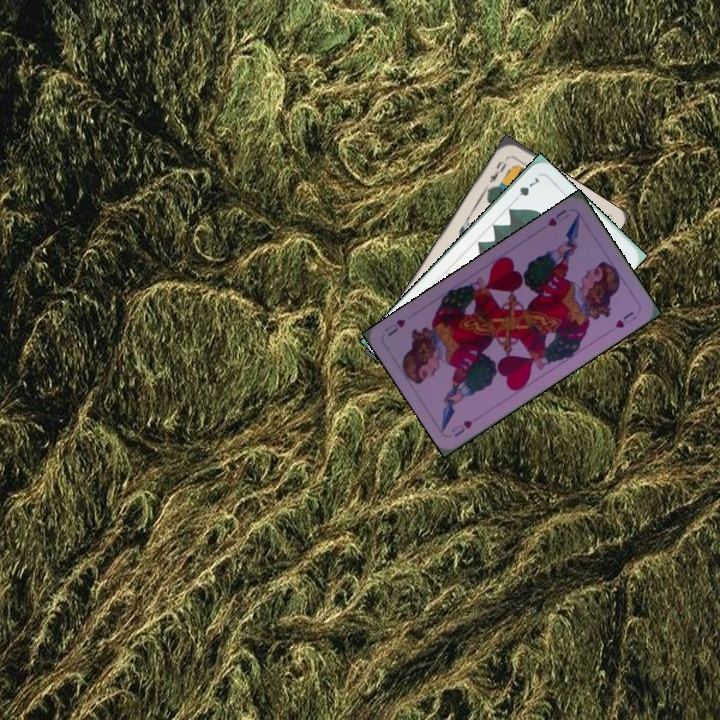EO: (485, 157, 509, 185)
G7: (510, 173, 541, 205)
HU: (543, 205, 572, 229), (447, 416, 475, 439)
